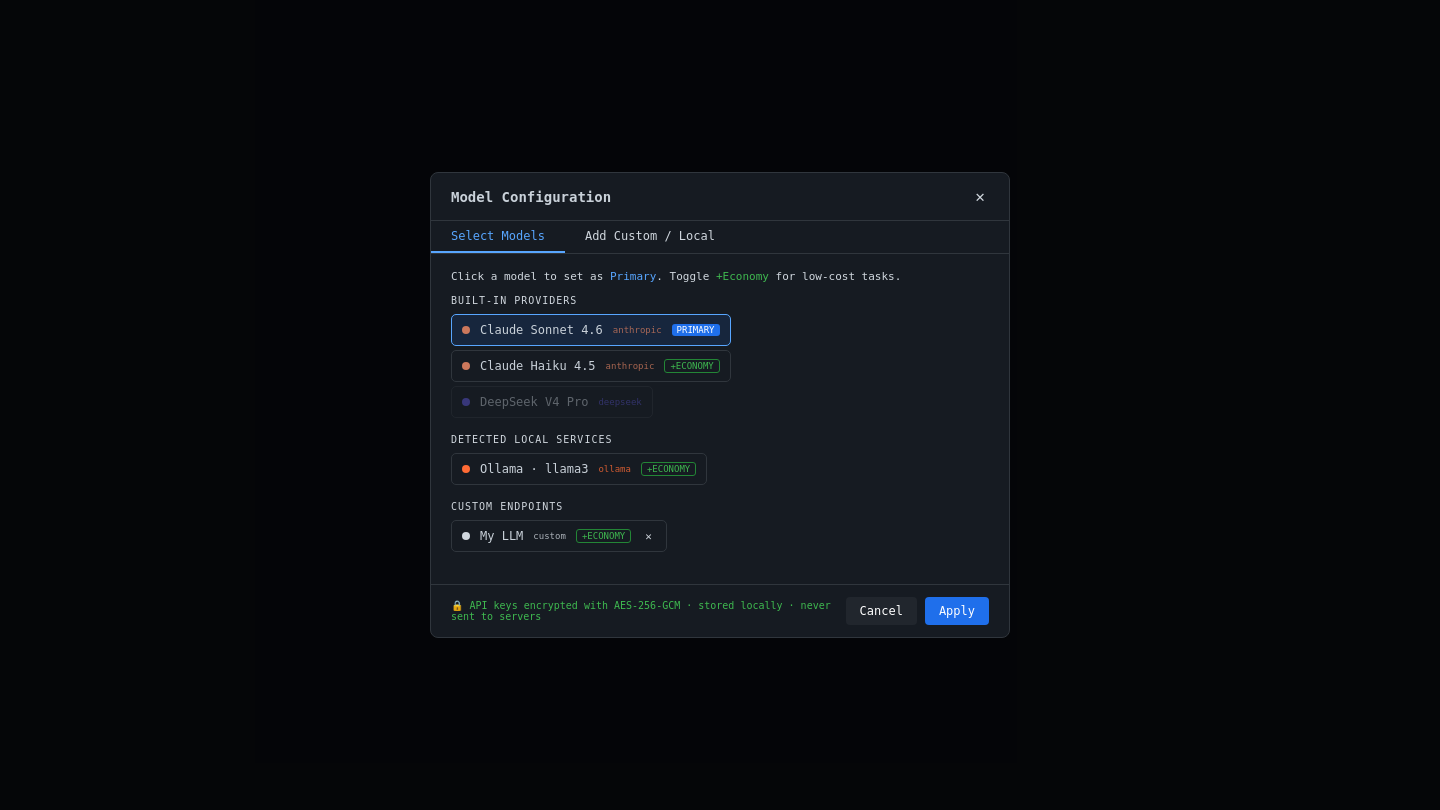
Test: ModelManager — add custom model › client-side validation: rejects an invalid Base URL
Check: the text "Claude Sonnet 4.6" is shown, box [480,323,603,337]
Step 1. Click the button "Add Custom / Local" → (650, 237), box [565,221,735,253]
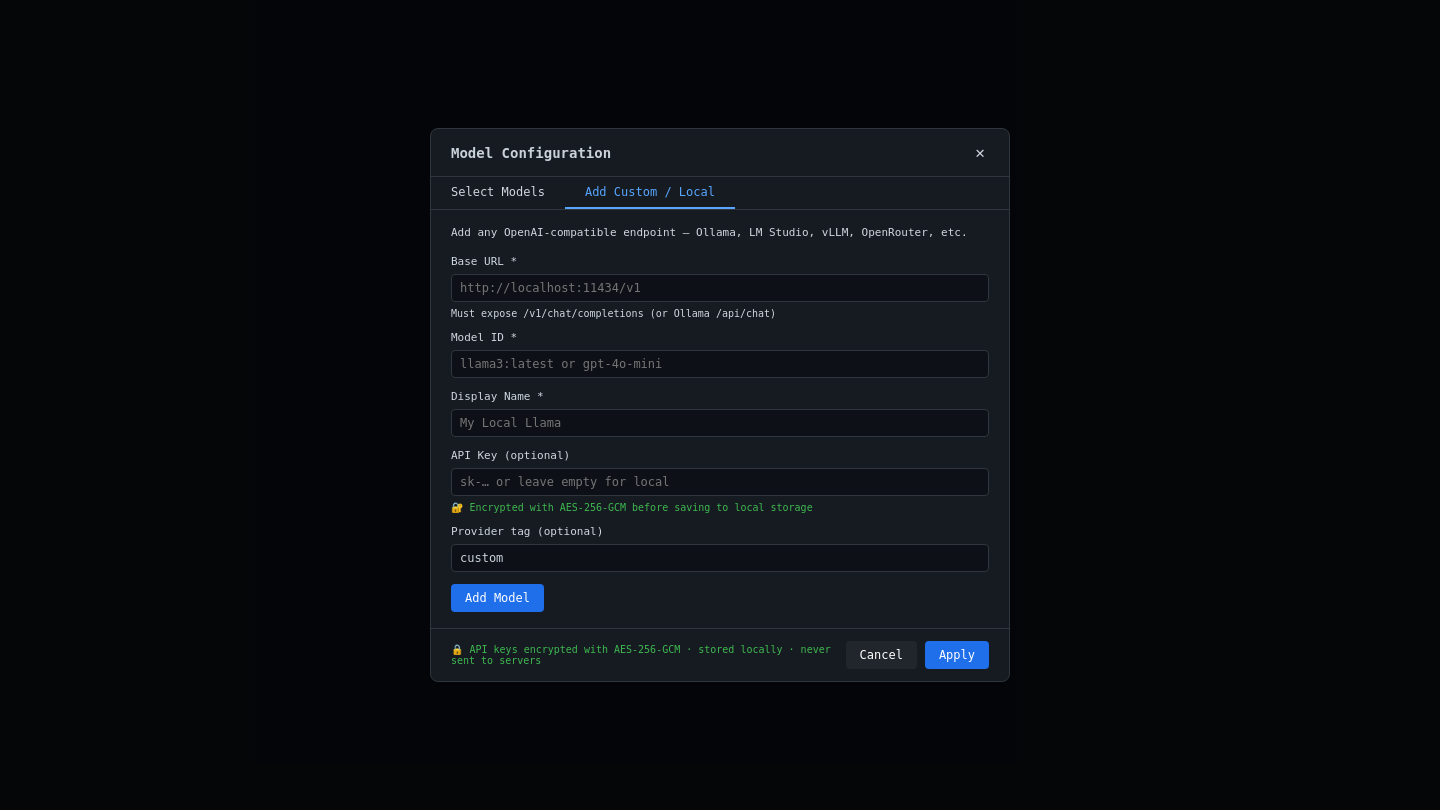
Step 2. Type "not a url" into the field with placeholder "http://localhost:11434/v1" → (720, 288), box [451,274,989,302]
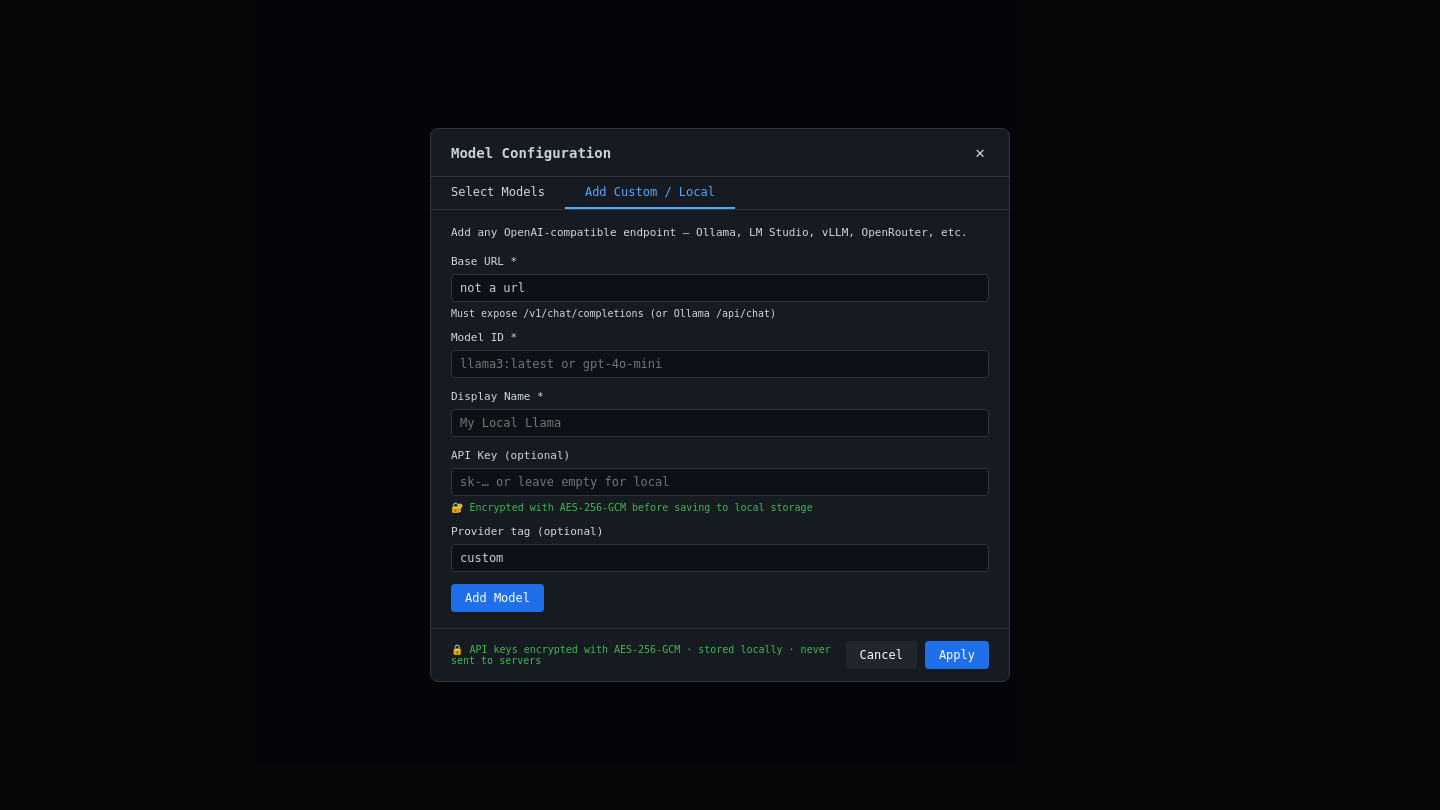
Step 3. Type "my-id" into the field with placeholder "llama3:latest or gpt-4o-mini" → (720, 364), box [451,350,989,378]
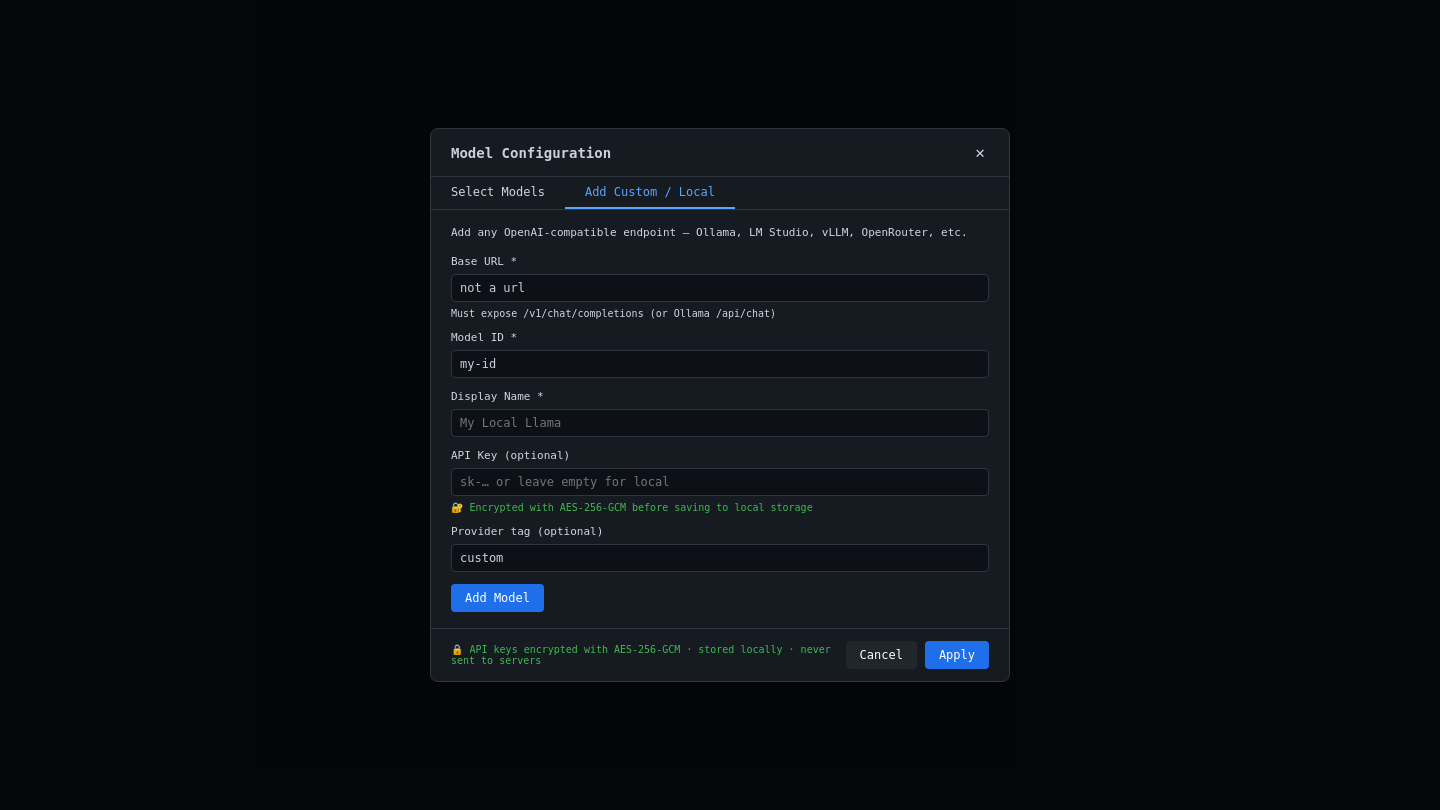
Step 4. Type "Display" into the field with placeholder "My Local Llama" → (720, 423), box [451,409,989,437]
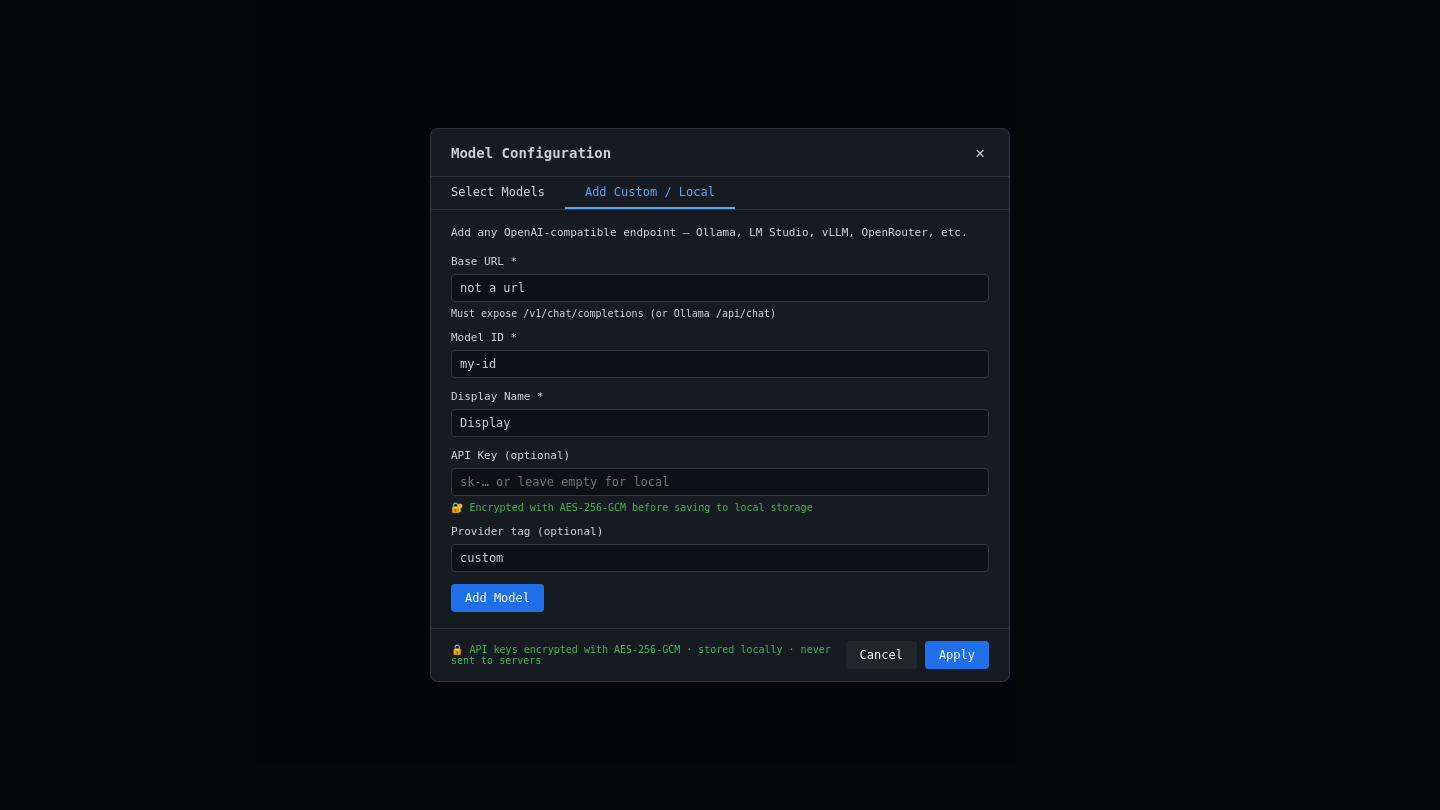
Step 5. Click the button "Add Model" → (498, 598), box [451,584,544,612]
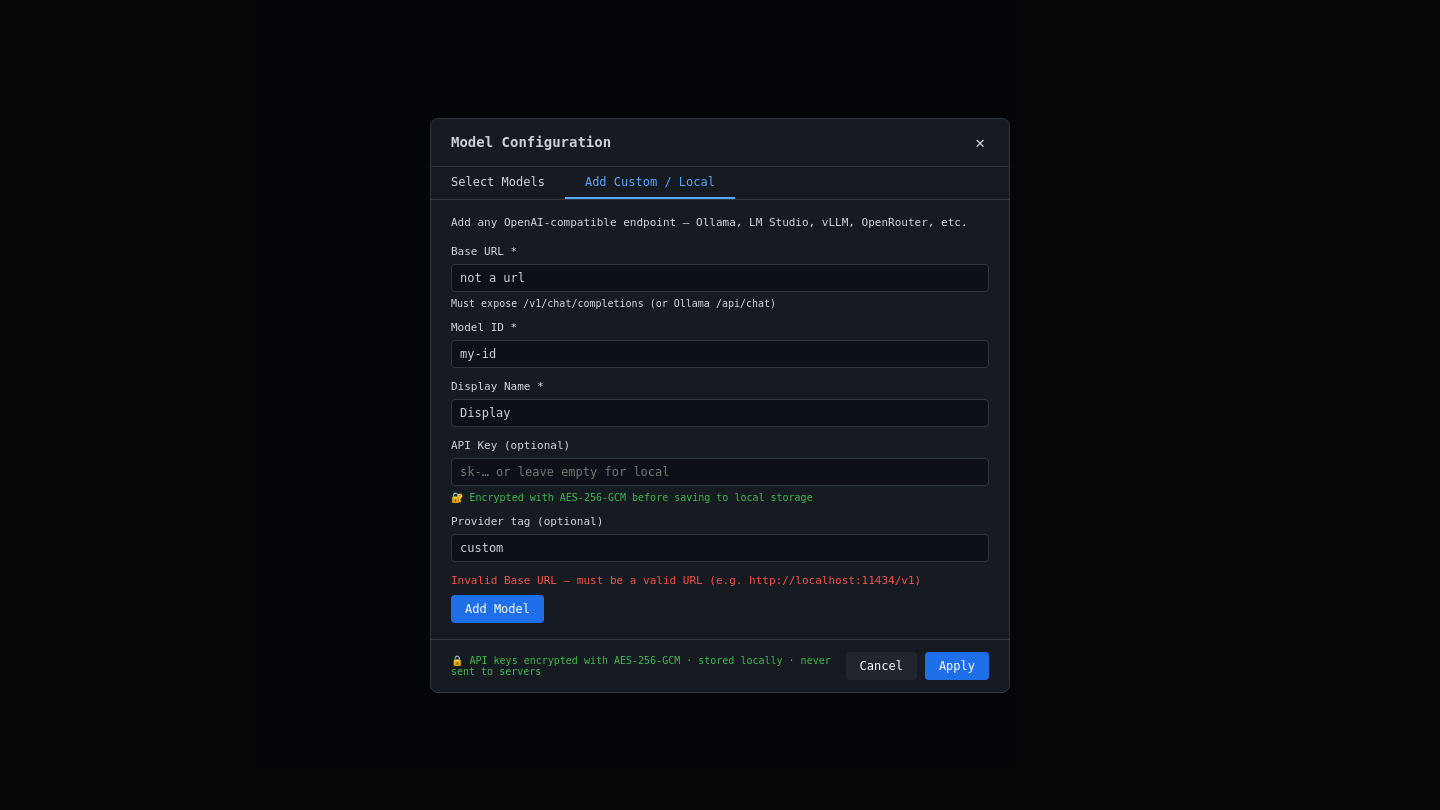
Check: the text "Invalid Base URL" is shown, box [451,574,921,586]
